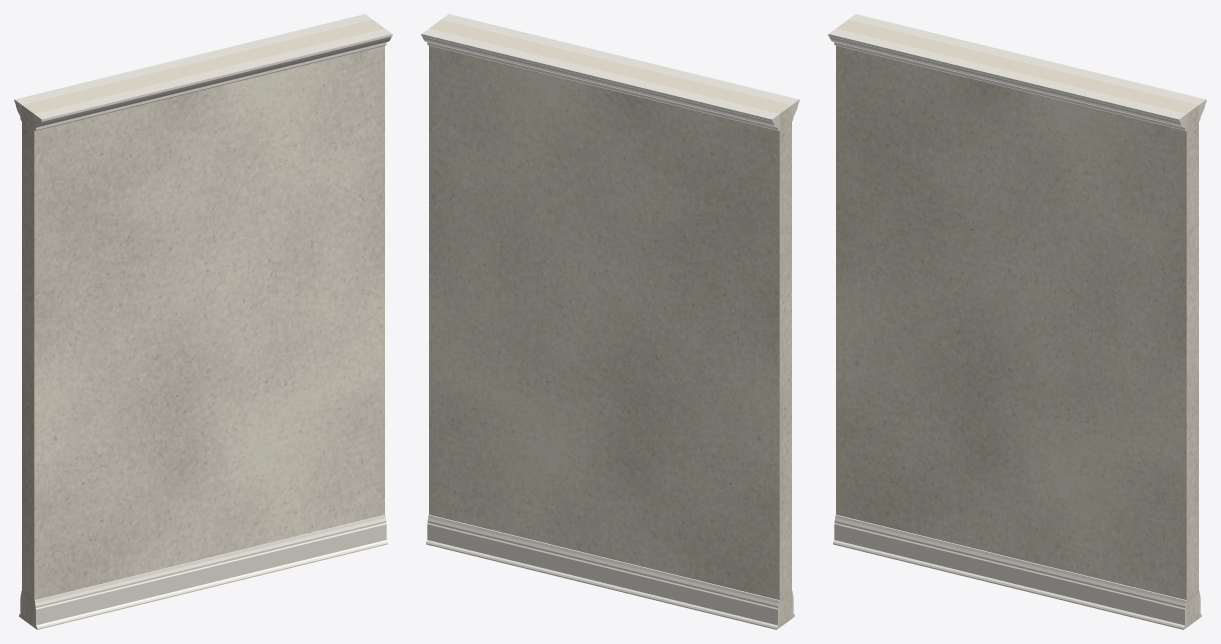
File: interior_wall_plain.glb
3 views of the same model, side by side, from view 1: azimuth 30°, elevation 25°; view 2: azimuth 150°, elevation 25°; view 3: azimuth 330°, elevation 25° (orthographic).
Parts seen in each view (by area): view 1: interior_wall_plain_plaster, molduras; view 2: interior_wall_plain_plaster, molduras; view 3: interior_wall_plain_plaster, molduras.
Part boxes in pixels (bbox=[...]): interior_wall_plain_plaster: bbox=[22, 19, 384, 627]; molduras: bbox=[14, 14, 392, 629]; interior_wall_plain_plaster: bbox=[429, 19, 791, 627]; molduras: bbox=[421, 14, 799, 629]; interior_wall_plain_plaster: bbox=[836, 19, 1198, 627]; molduras: bbox=[828, 14, 1206, 629].
Size of the model in its own units: 2 by 2.8 by 0.27.
2 materials, 1 textured.
